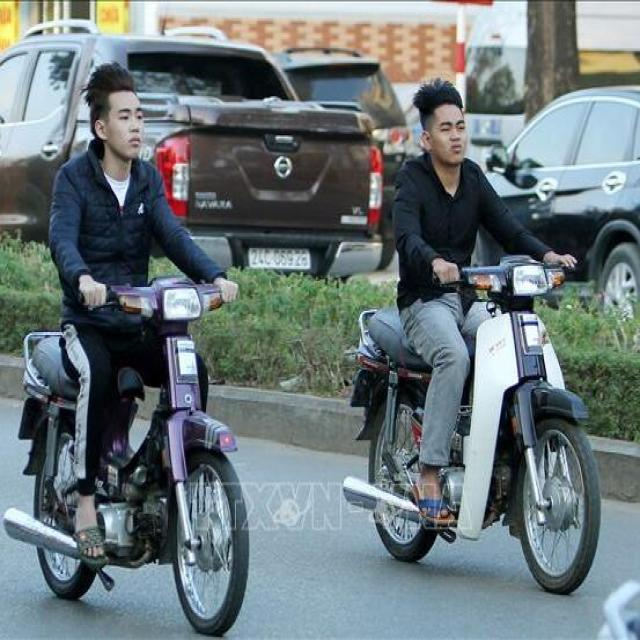Face and Hair: (80, 50, 153, 178), (406, 60, 477, 178)
